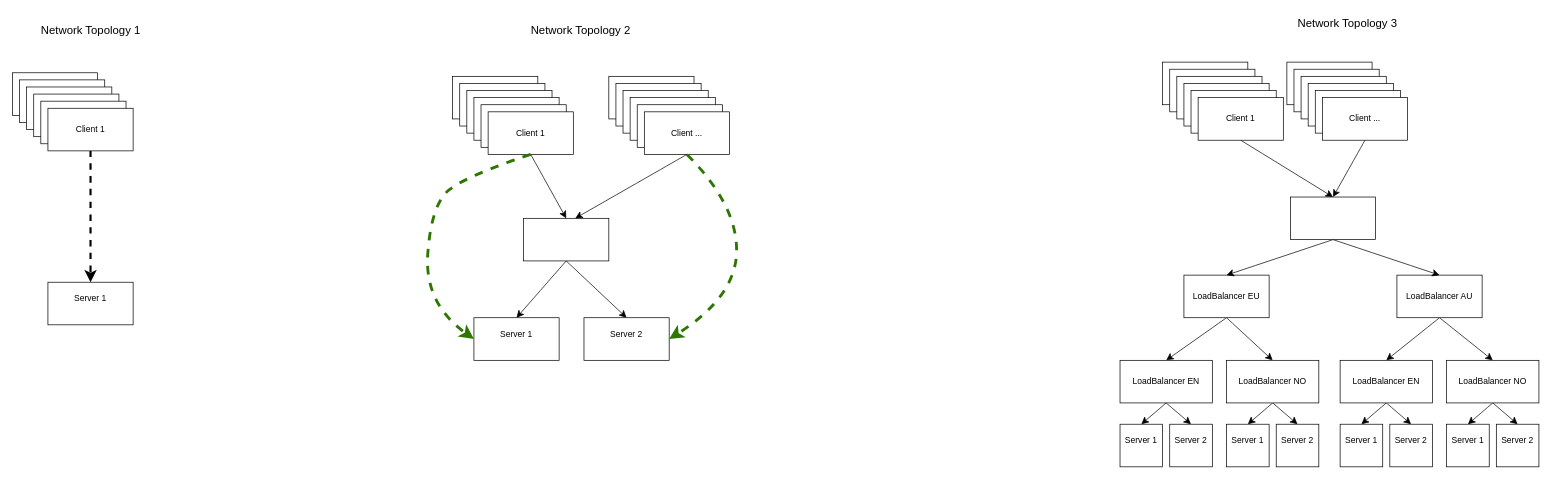
Image size: 1551x479. Some labels were removed from this diagram. The shapes that lost their labels are listed below. From the top down, each one's centre as x and y in pixels, then its label:
At (1333,218): "LoadBalancer Main".
At (566,239): "LoadBalancer".
